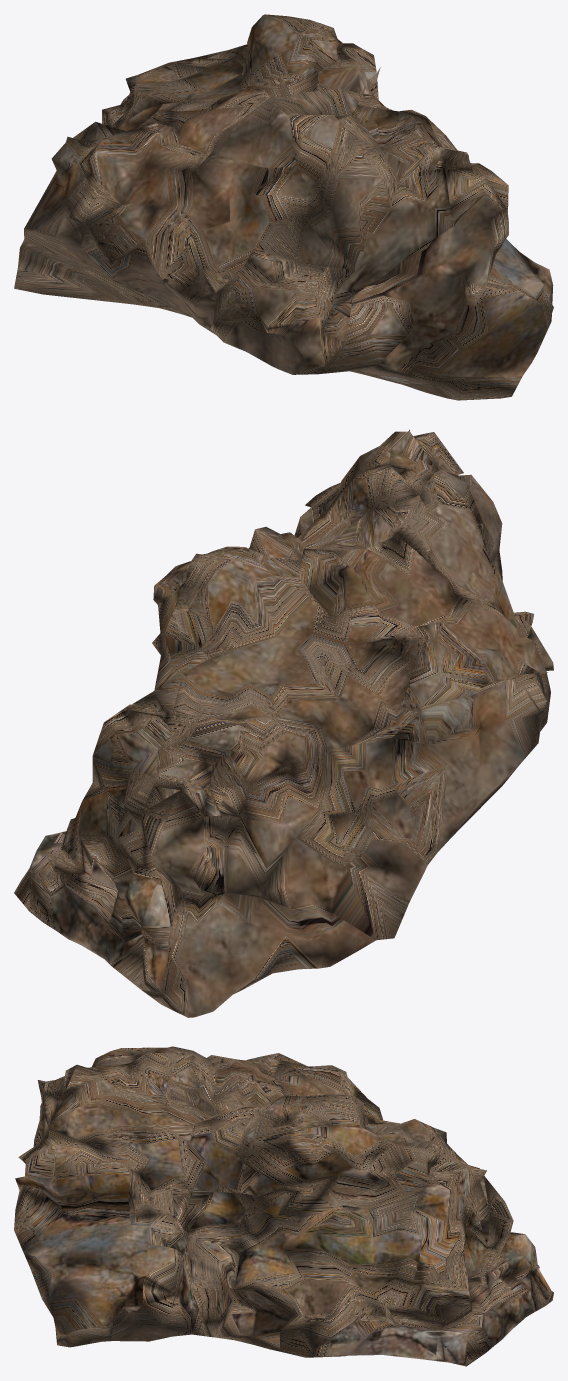
Rendered from boulder_01.glb.
3 views of the same model, one above another, from view 1: azimuth 30°, elevation 25°; view 2: azimuth 150°, elevation 25°; view 3: azimuth 270°, elevation 25° (orthographic). The views are drawn at different scales.
Parts seen in each view (by area): view 1: boulder_01; view 2: boulder_01; view 3: boulder_01.
Boxes of the visible parts, x1,y1,x2,y2 form: boulder_01: [14, 14, 553, 400]; boulder_01: [14, 429, 553, 1017]; boulder_01: [14, 1046, 553, 1366].
Size of the model in its own units: 1.27 by 0.9936 by 1.81.
Materials: 1 (1 with a texture image).
